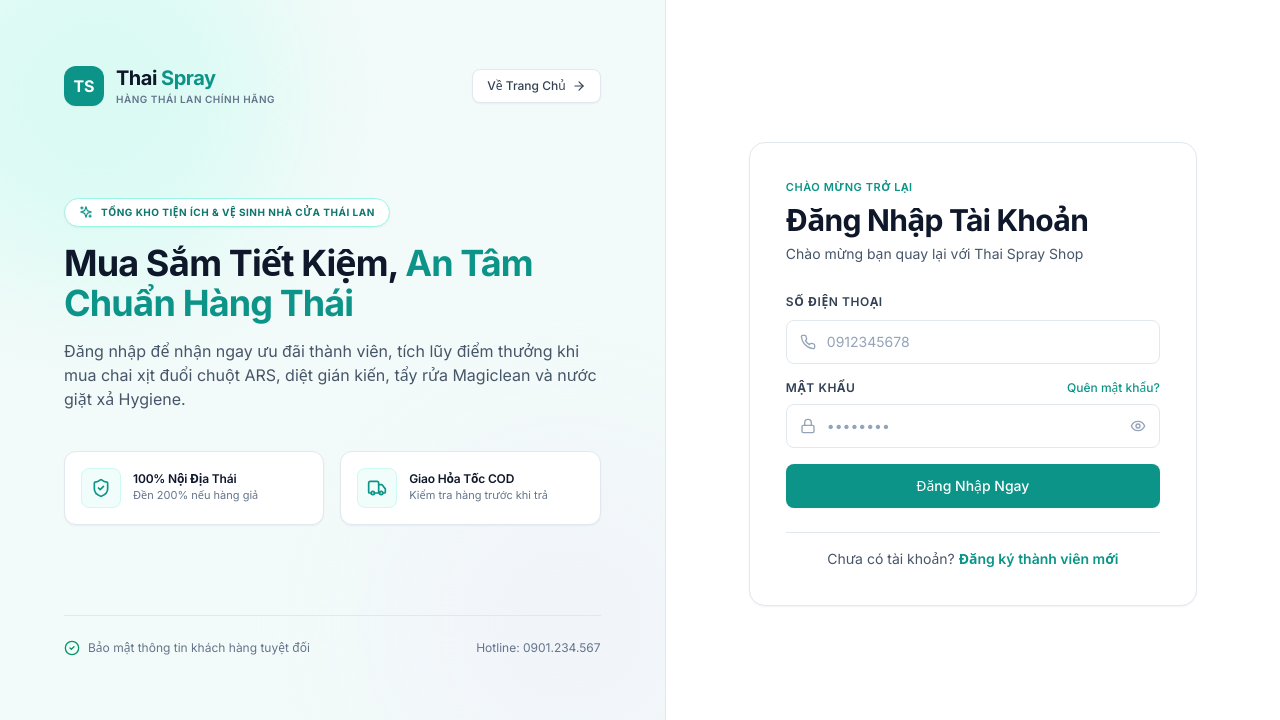
LoginPage › displays validation error messages when submitting an empty form
This screenshot has width=1280, height=720.
Click the button "Đăng Nhập Ngay" at {"x": 973, "y": 486}, box [786,464,1160,508]
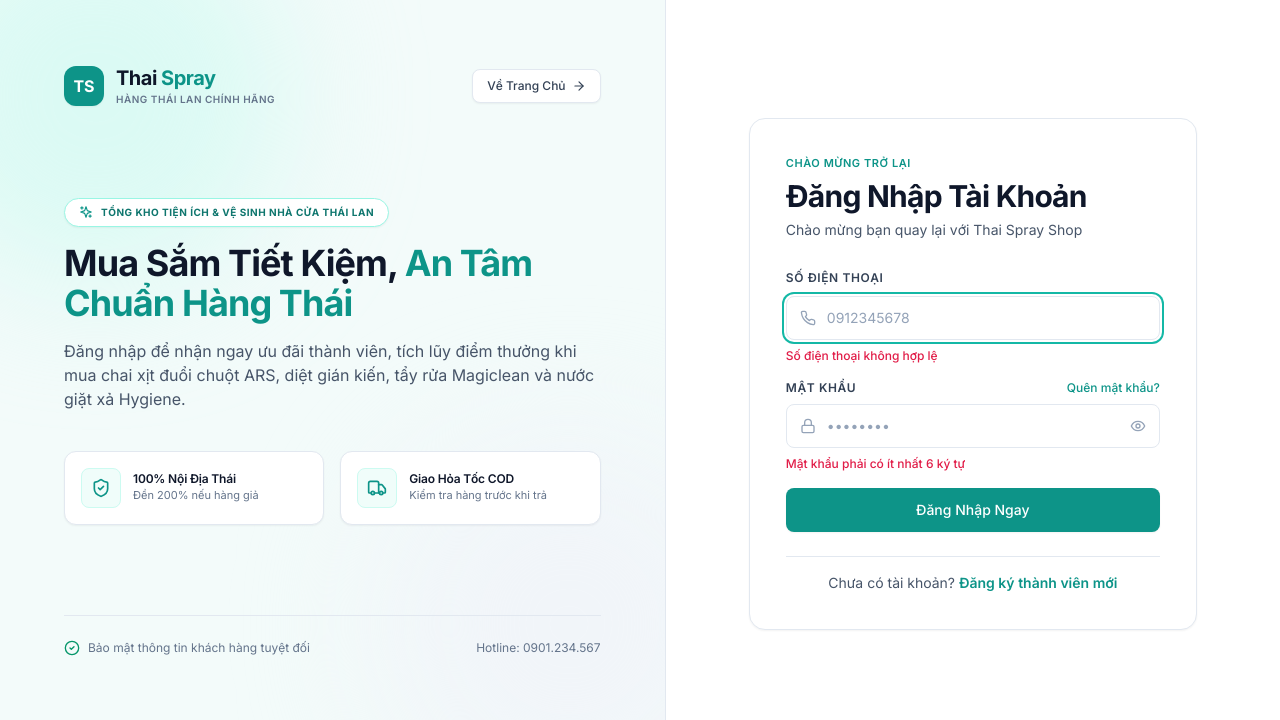
Now the text "Số điện thoại không hợp lệ" is shown, box [786,348,938,363]
Now the text "Mật khẩu phải có ít nhất 6 ký tự" is shown, box [786,456,965,471]
